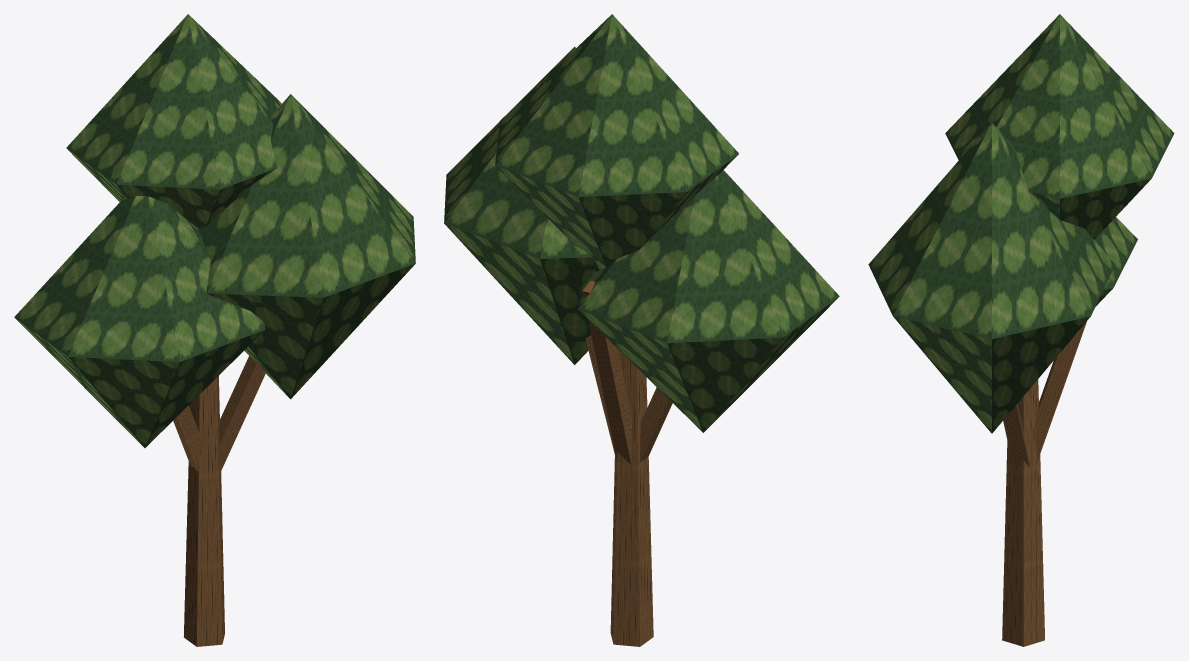
File: tree-lod0.glb
3 renders of one model, left to right at view 1: azimuth 30°, elevation 25°; view 2: azimuth 150°, elevation 25°; view 3: azimuth 270°, elevation 25°, orthographic. The views are drawn at different scales.
Size of the model in its own units: 0.4701 by 0.76 by 0.3382.
Materials: 1 (1 with a texture image).
